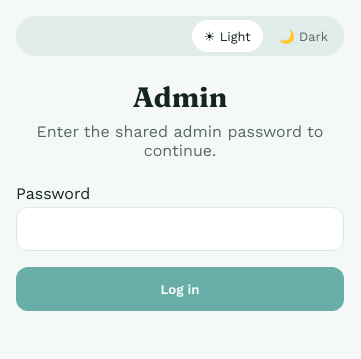
Test case: Admin login + route guard › shows an error and does not navigate when the password is rejected
The width and height of the screenshot is (361, 359).
In the password field labelled "Password": (180, 229) x1=16 y1=207 x2=344 y2=251, type "wrong"
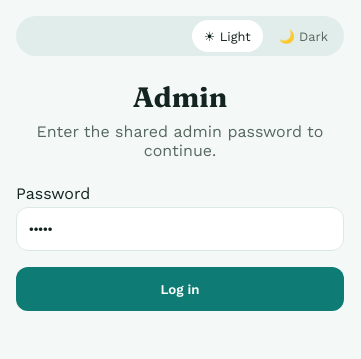
Submit the form, box x1=16 y1=184 x2=344 y2=311
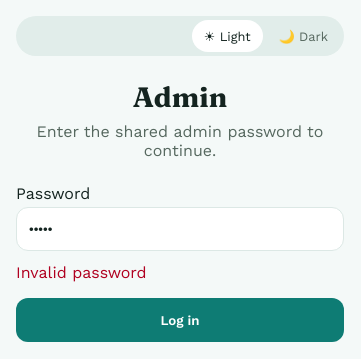
Check: the text with class "error" reads "Invalid password", box x1=16 y1=263 x2=147 y2=282
